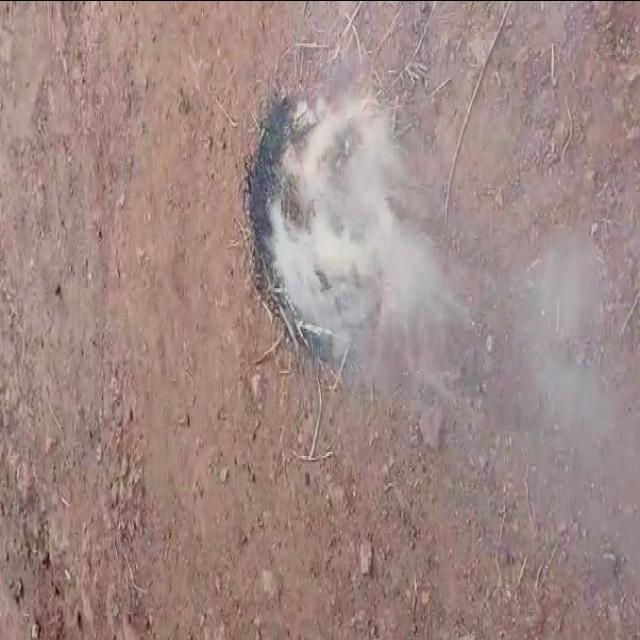firerotation: (264, 78, 468, 414)
